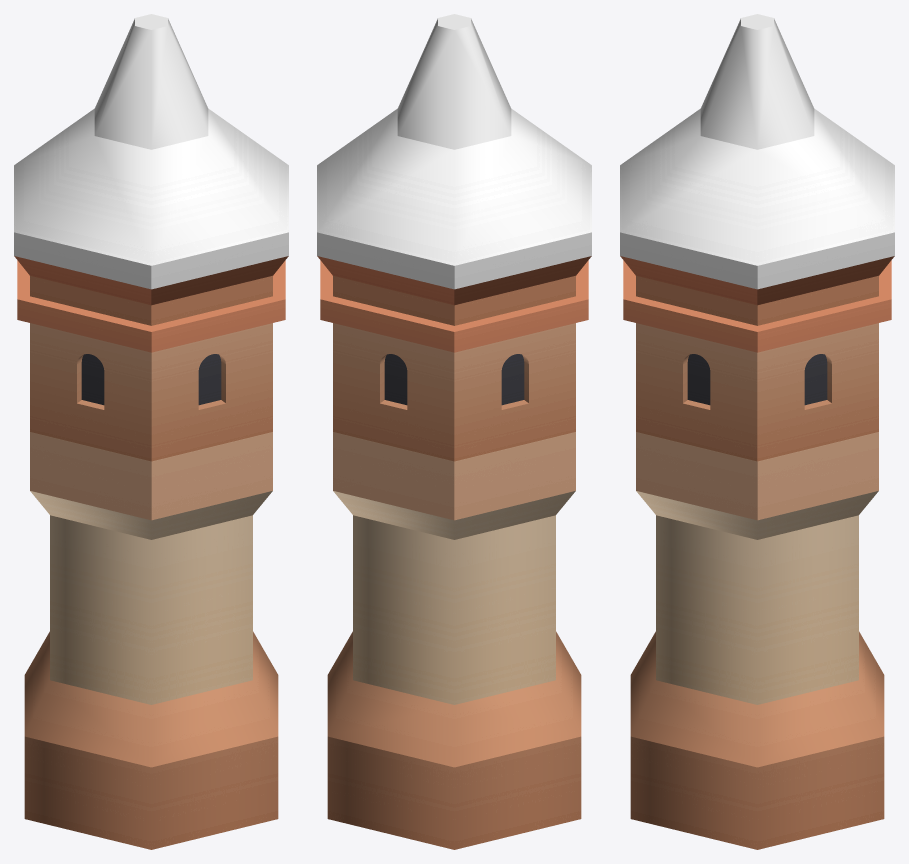
Rendered from tower.glb.
3 views of the same model, side by side, from view 1: azimuth 30°, elevation 25°; view 2: azimuth 150°, elevation 25°; view 3: azimuth 270°, elevation 25° (orthographic).
Visible parts, largest first — view 1: tower-hexagon-base, tower-hexagon-roof, tower-hexagon-mid; view 2: tower-hexagon-base, tower-hexagon-roof, tower-hexagon-mid; view 3: tower-hexagon-base, tower-hexagon-roof, tower-hexagon-mid.
Boxes of the visible parts, <box> form: tower-hexagon-base: <box>24,432,278,849</box>; tower-hexagon-roof: <box>14,14,288,325</box>; tower-hexagon-mid: <box>17,260,285,461</box>; tower-hexagon-base: <box>327,432,581,849</box>; tower-hexagon-roof: <box>317,14,591,325</box>; tower-hexagon-mid: <box>320,260,588,461</box>; tower-hexagon-base: <box>630,432,884,849</box>; tower-hexagon-roof: <box>620,14,894,325</box>; tower-hexagon-mid: <box>623,260,891,461</box>.
Size of the model in its own units: 0.9763 by 2.6 by 0.8455.
Materials: 2 (2 with a texture image).
